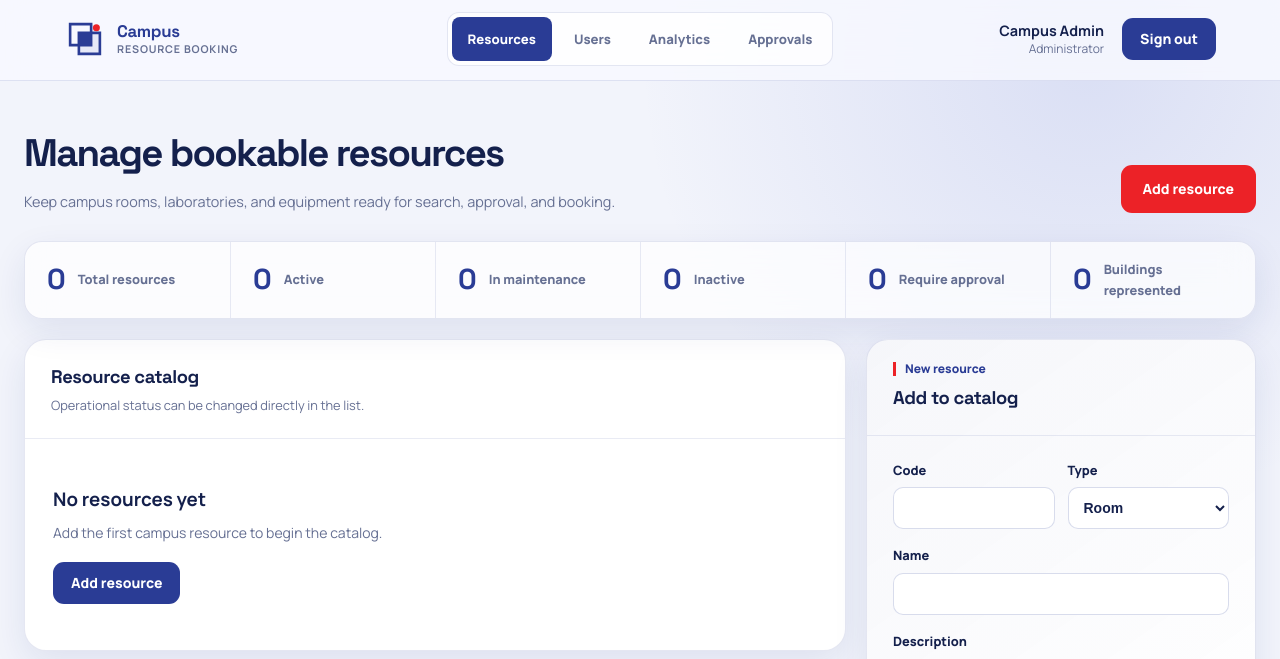
Test case: AdminResourceManager › creates a resource and adds it to the catalog
Type "room-a103" into the field labelled "Code" at (974, 508), box [893, 487, 1054, 529]
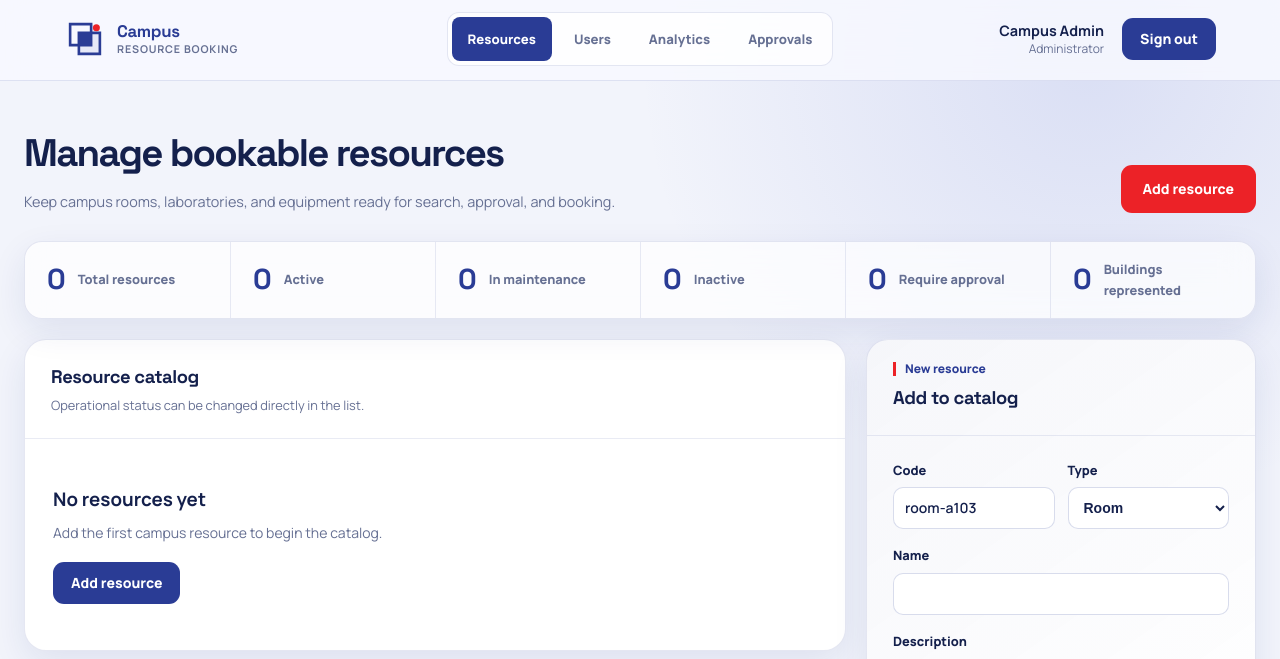
Type "Collaboration Room" into the field labelled "Name" at (1061, 594), box [893, 573, 1229, 615]
(page scrolled)
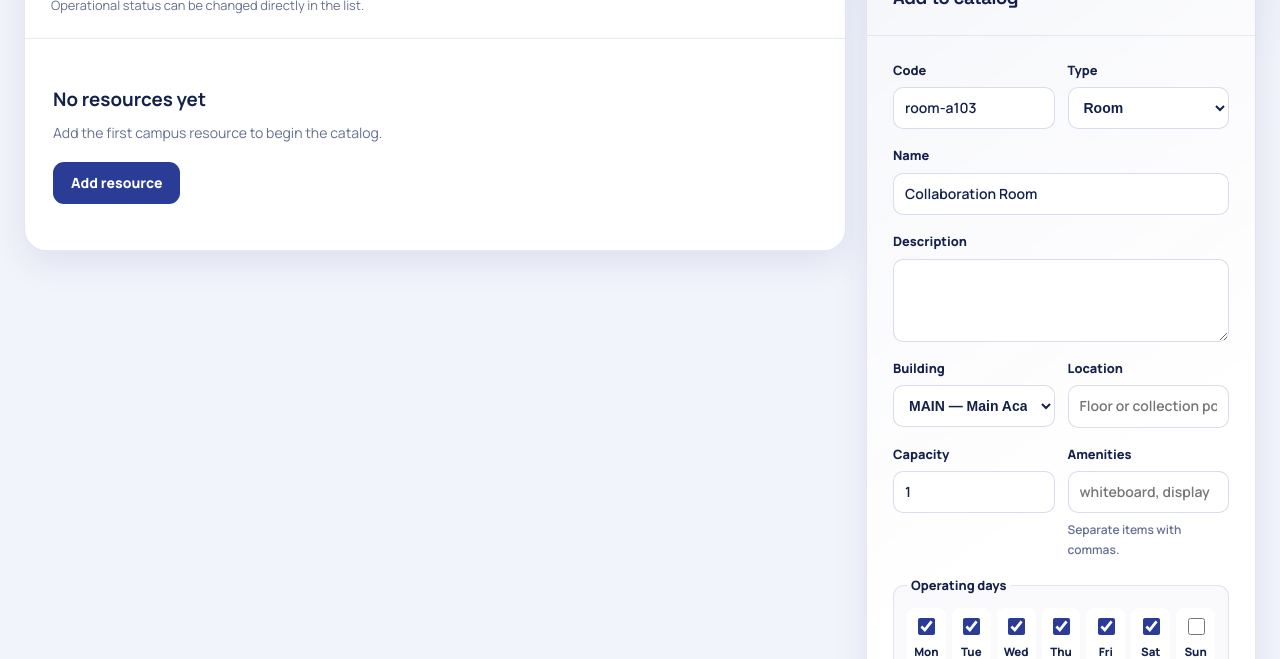
Type "Ground floor" into the field labelled "Location" at (1148, 406), box [1068, 385, 1229, 428]
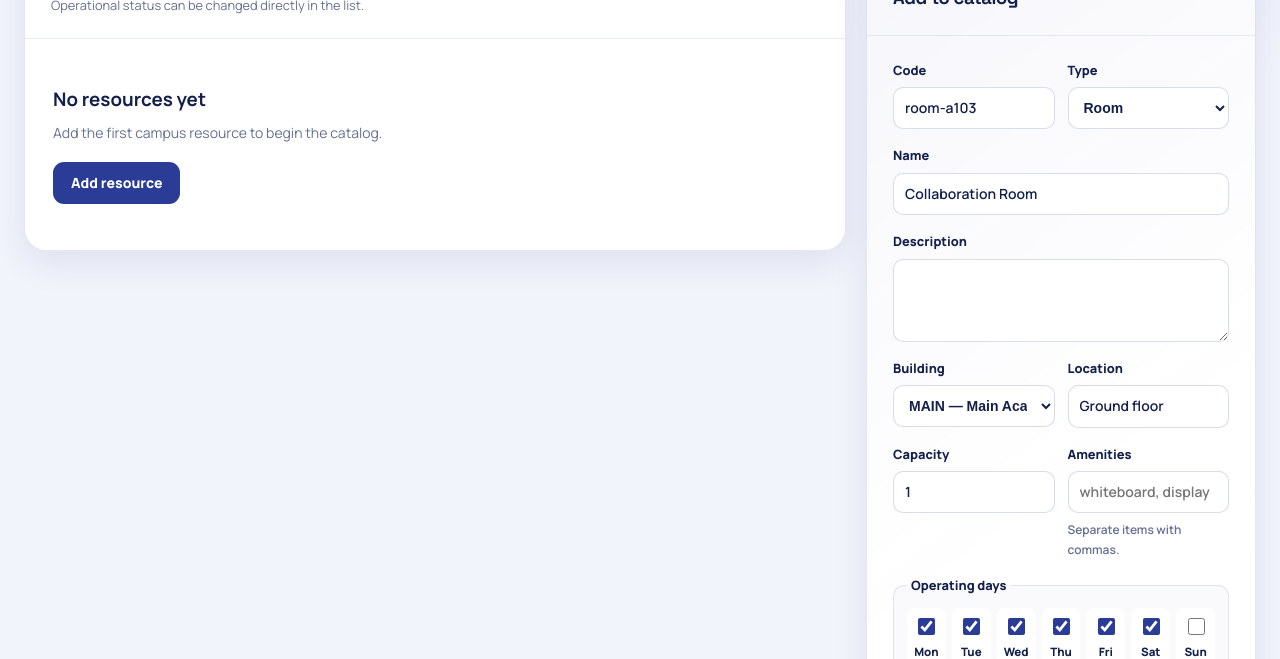
Replace the text in the number field labelled "Capacity" with "10" at (974, 492), box [893, 471, 1054, 513]
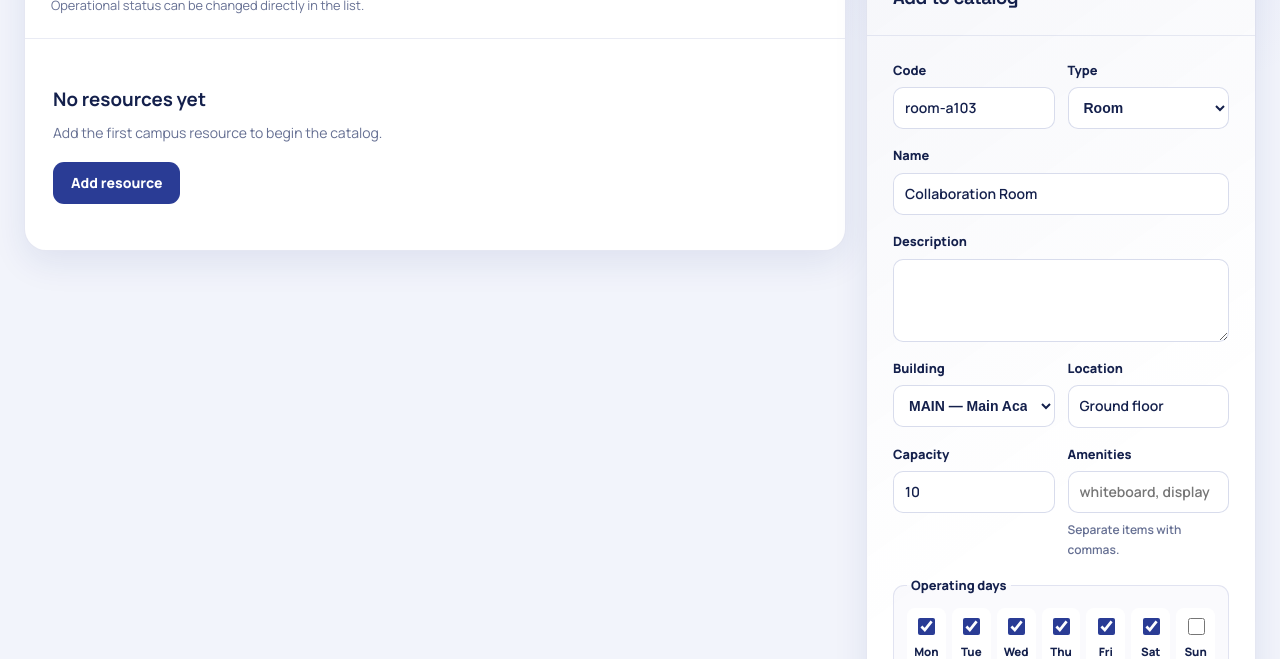
Type "Whiteboard, Display" into the field labelled "Amenities" at (1148, 492), box [1068, 471, 1229, 513]
(page scrolled)
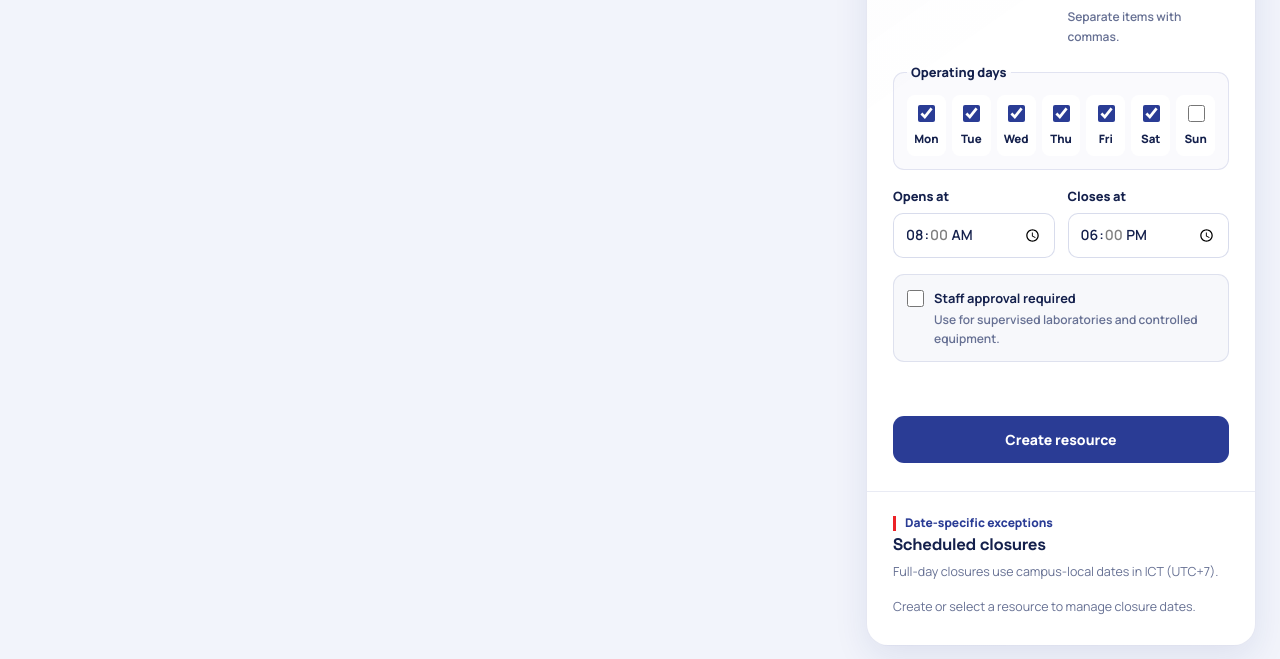
Click the button "Create resource" at (1061, 440), box [893, 416, 1229, 463]
(page scrolled)
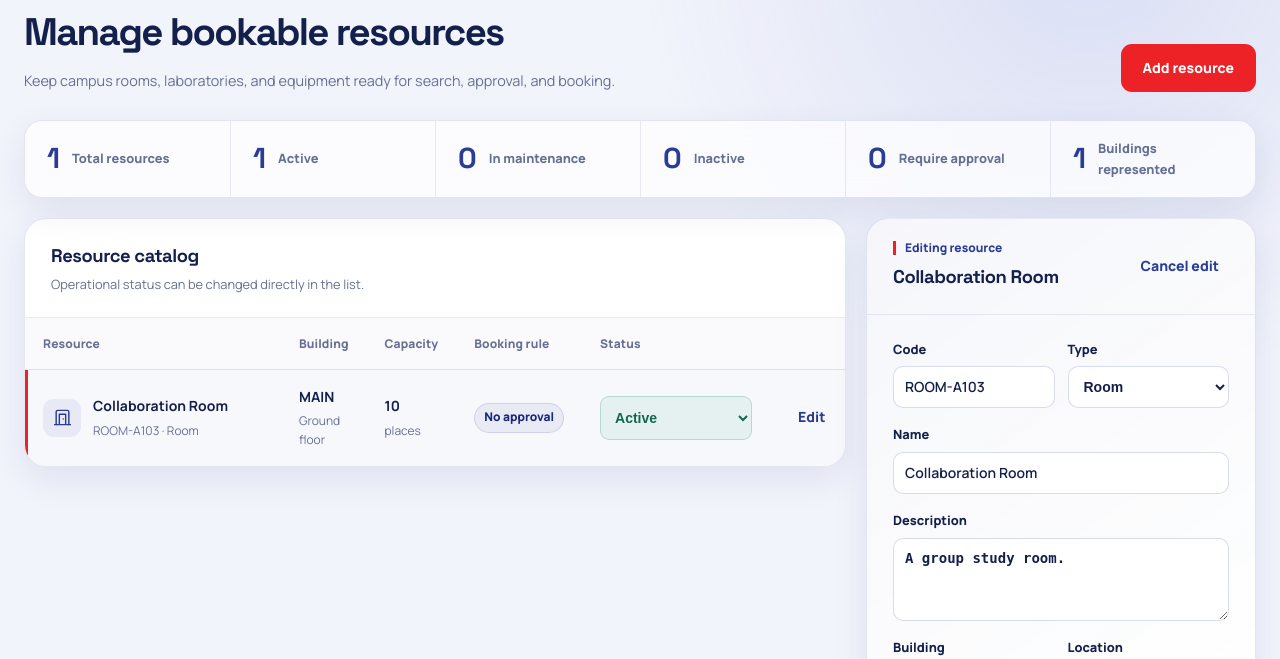
Expected: the text "Collaboration Room" is shown, [93, 395, 228, 418]
